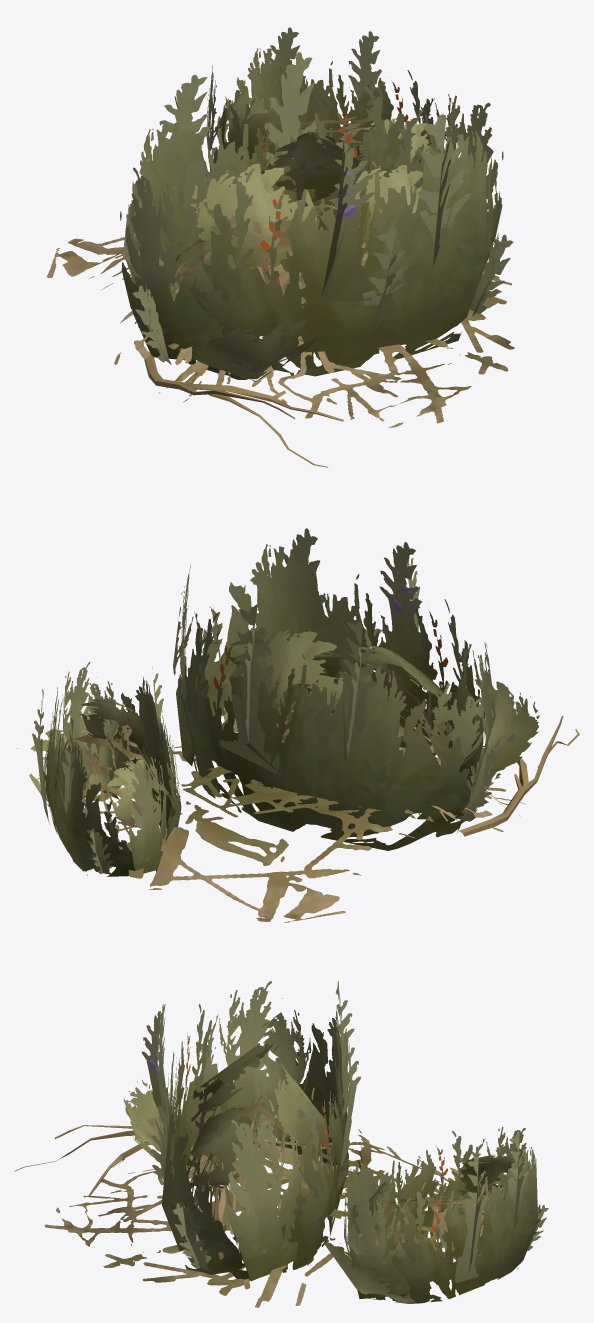
3 renders of one model, top to bottom at view 1: azimuth 30°, elevation 25°; view 2: azimuth 150°, elevation 25°; view 3: azimuth 270°, elevation 25°, orthographic. The views are drawn at different scales.
Visible parts, largest first — view 1: body0_model0_lod0_mesh0; view 2: body0_model0_lod0_mesh0; view 3: body0_model0_lod0_mesh0.
Boxes of the visible parts, bbox=[...] form: body0_model0_lod0_mesh0: bbox=[46, 27, 514, 467]; body0_model0_lod0_mesh0: bbox=[17, 528, 579, 922]; body0_model0_lod0_mesh0: bbox=[14, 981, 548, 1307].
Bounding box in the file's own units: 106 × 57.52 × 125.
1 material, 1 textured.
